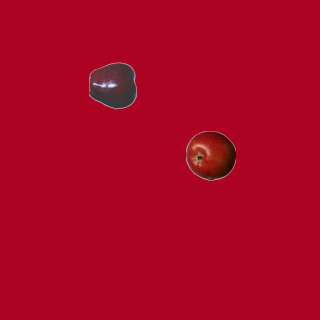Apple Braeburn: (185, 130, 235, 180)
Apple Red Delicious: (88, 60, 138, 110)
